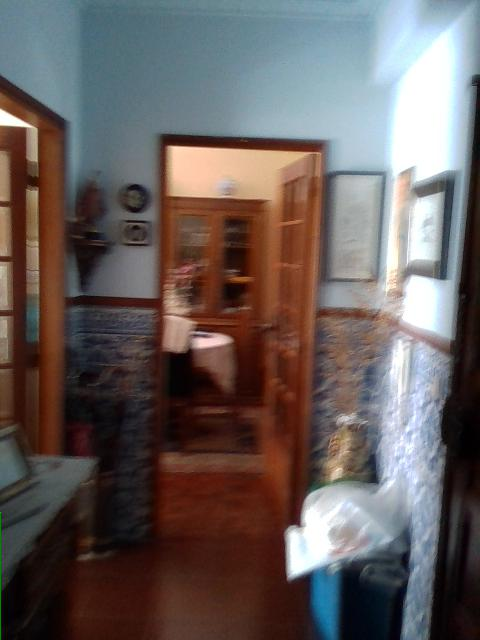door: (261, 151, 320, 527)
